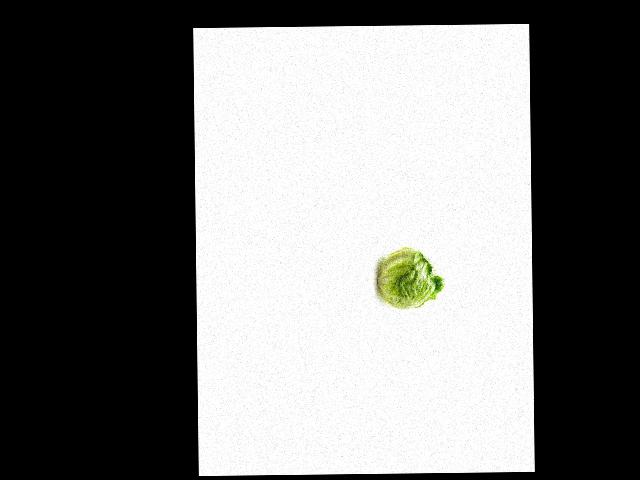lettuce: (374, 241, 444, 312)
